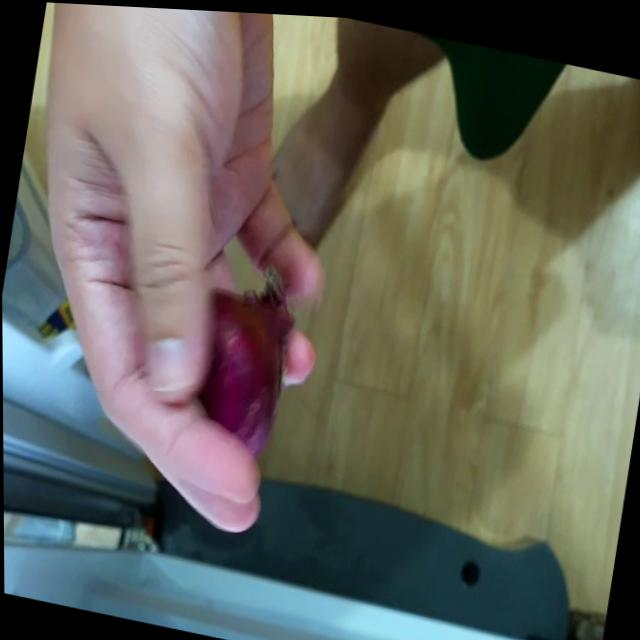onion: (193, 271, 306, 459)
